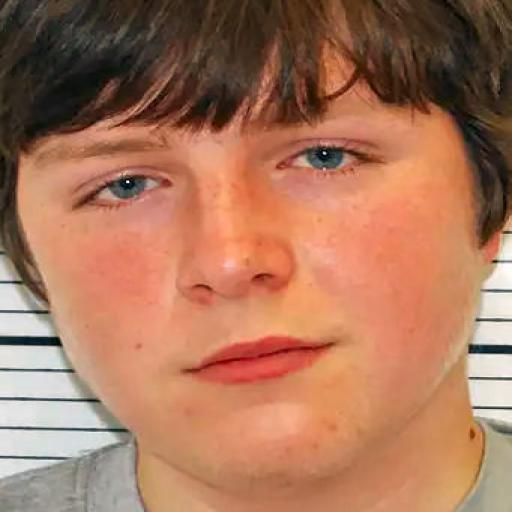Autism: (8, 9, 511, 497)
